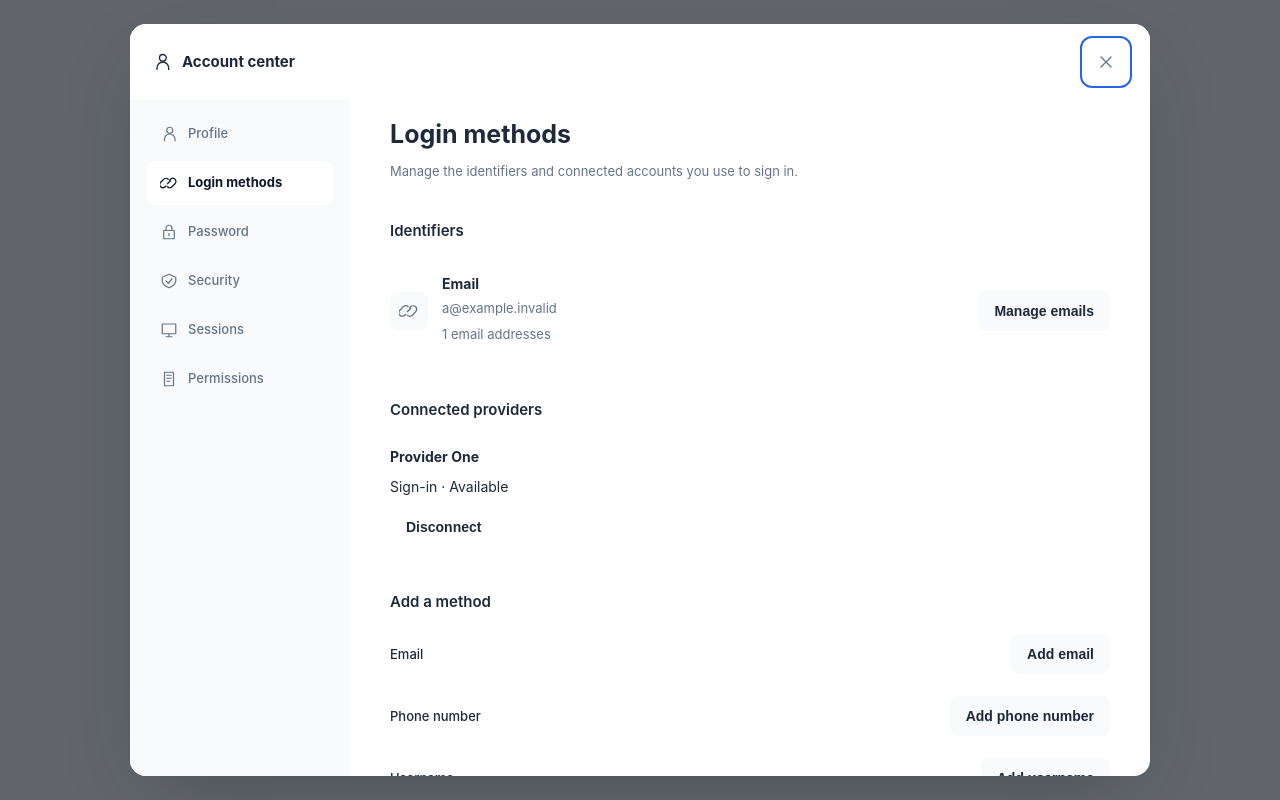
Test: F010 identity operation exits › F010 never executes the identity exit after committed cancellation
Click the button "Add email".
click(1061, 654)  # box [1011,634,1110,674]
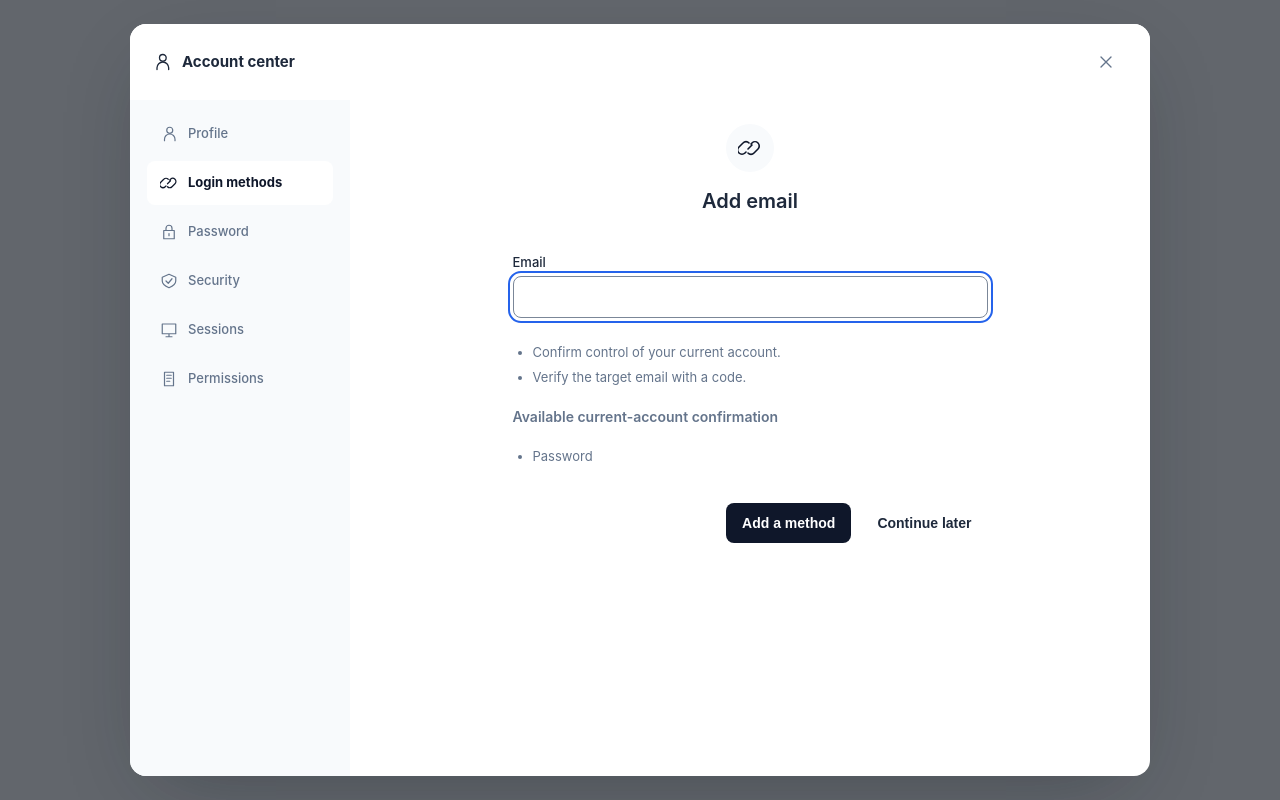
Type "new@example.invalid" into the field labelled "Email".
click(750, 297); type("new@example.invalid")  # box [512,276,988,318]
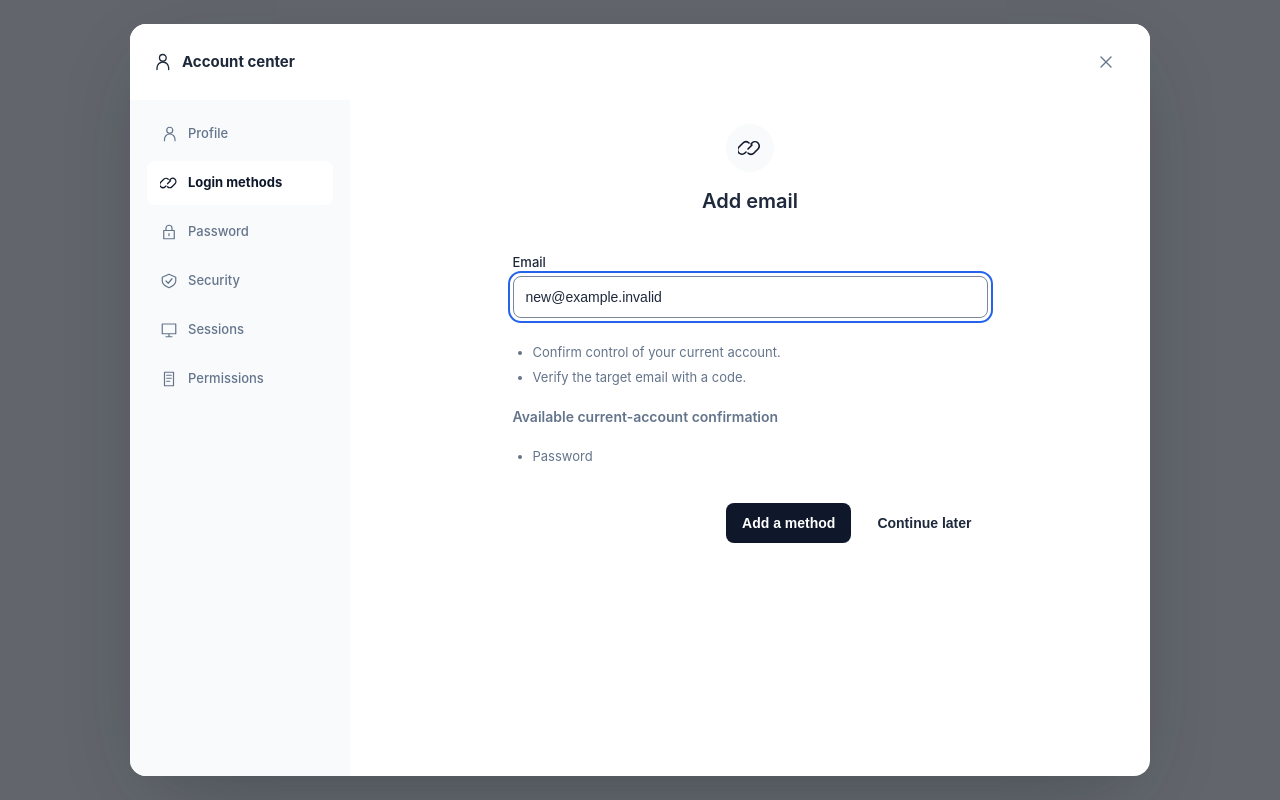
Click the button "Add a method".
click(789, 524)  # box [726,504,851,544]
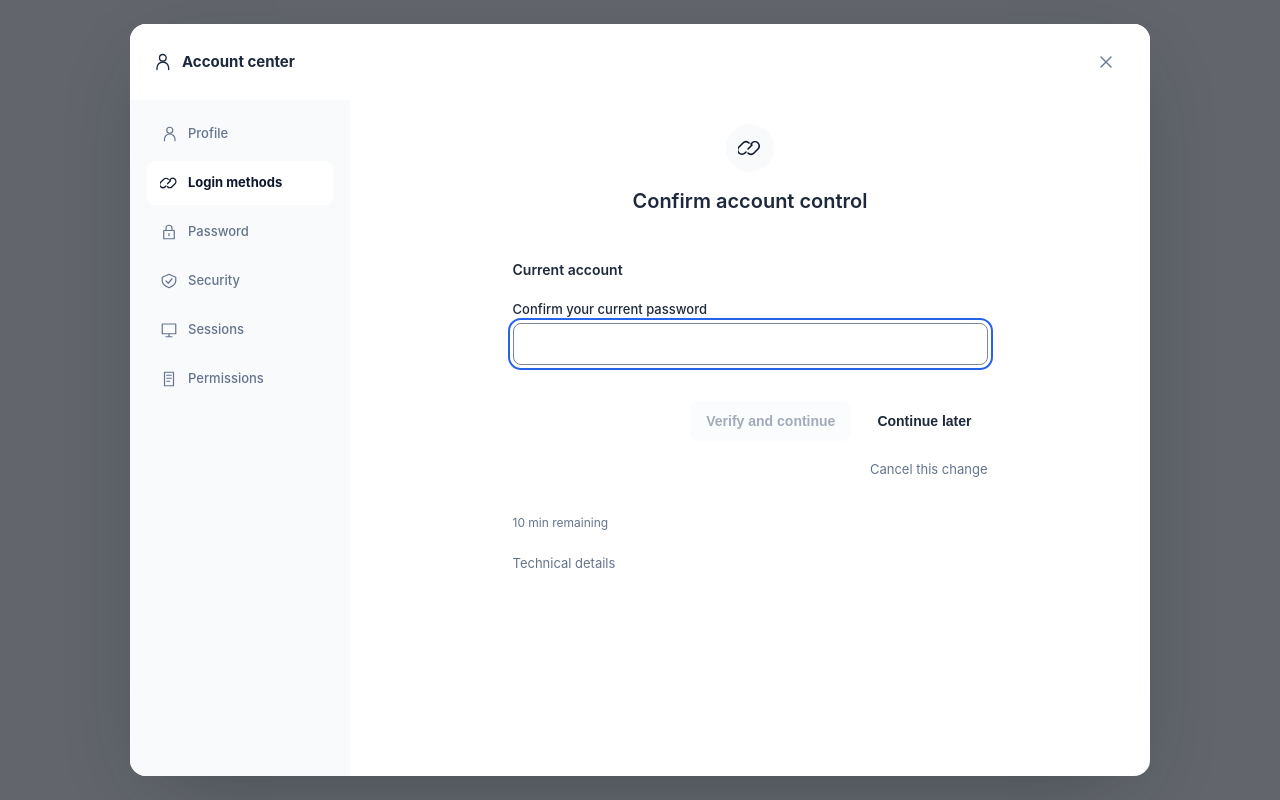
Expected: the password field labelled "Confirm your current password" is shown, [512,323,988,365]
Click the button named "Close account center".
click(1106, 62)  # box [1084,40,1128,84]
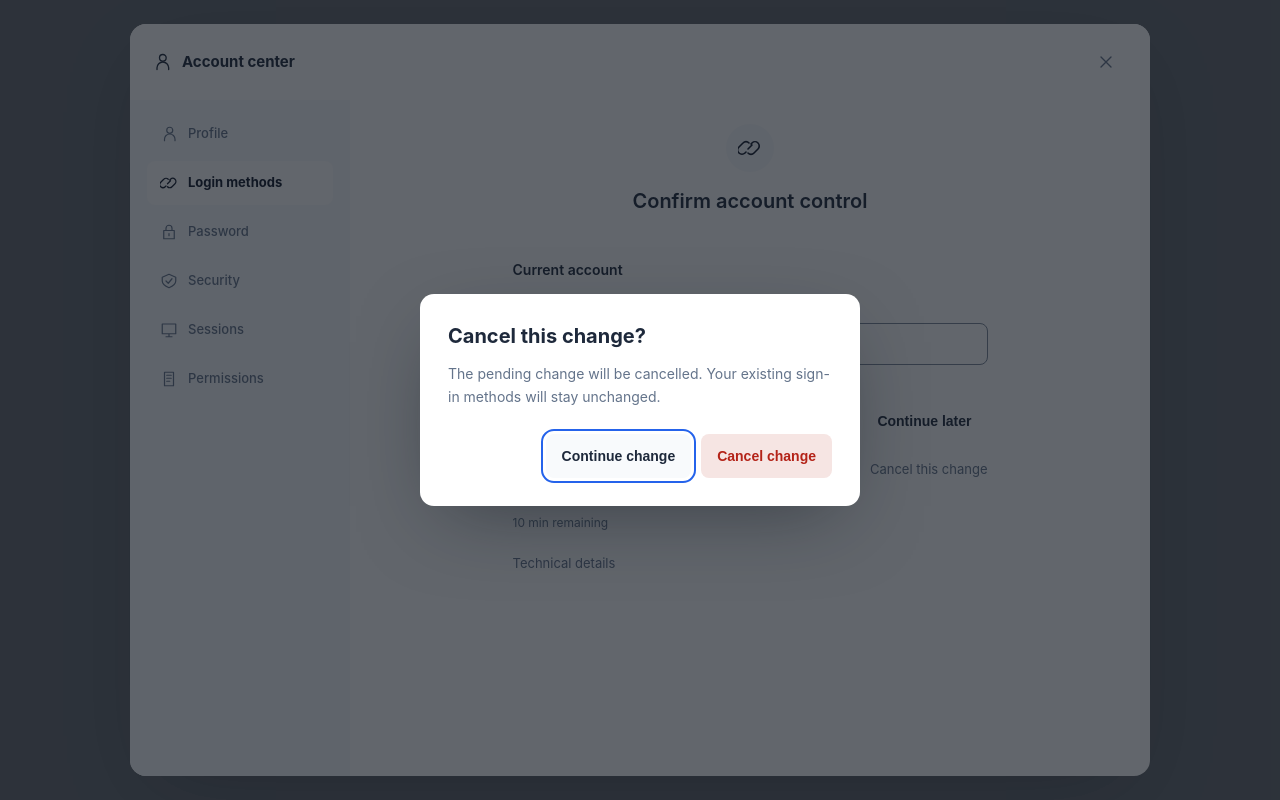
Click the button "Cancel change".
click(767, 456)  # box [701,434,832,478]
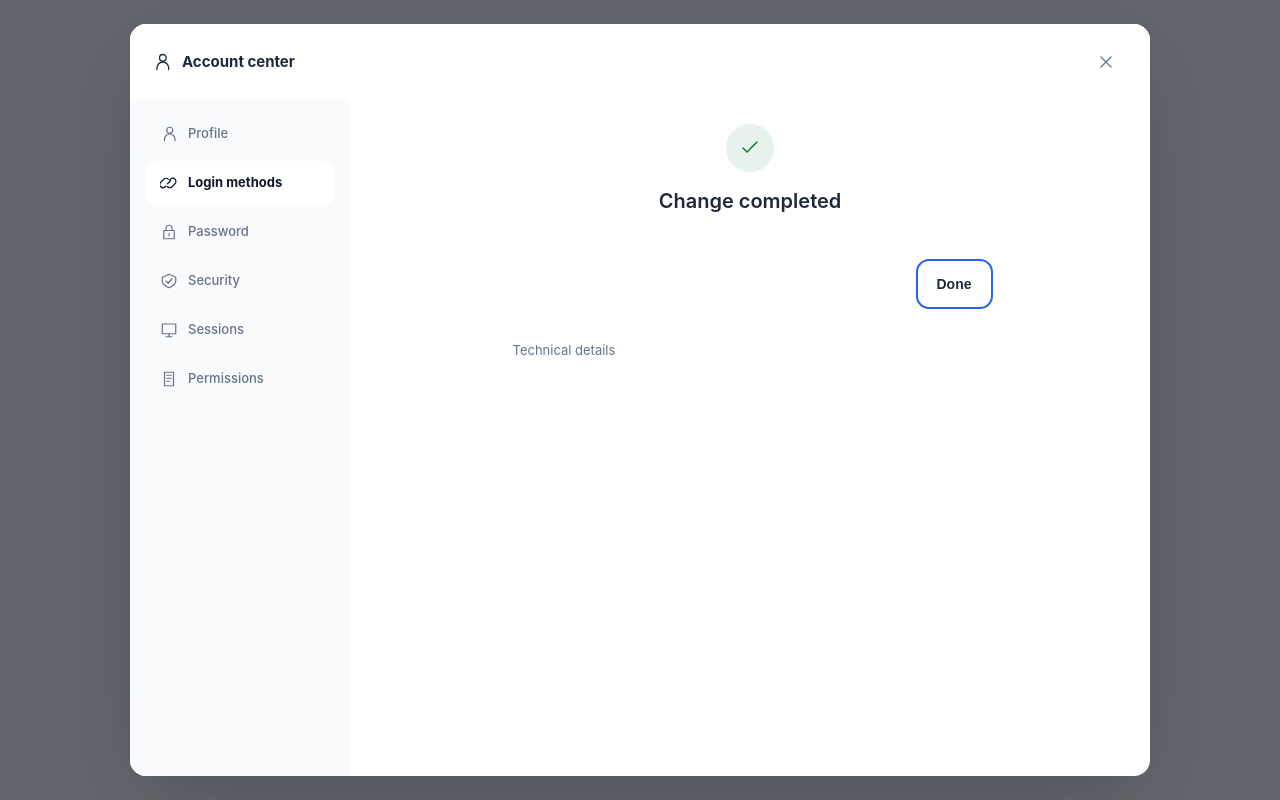
Expected: the heading "Change completed" is shown, [659,186,841,216]
